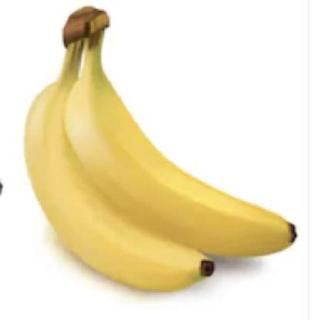banana: (65, 76, 301, 260), (22, 79, 219, 294)
